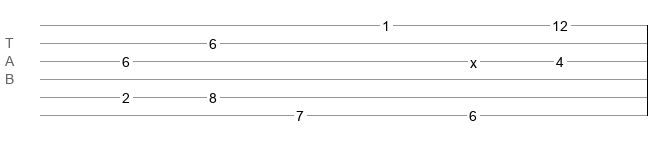1: (382, 18, 390, 28)
12: (552, 18, 568, 28)
2: (122, 90, 130, 100)
4: (556, 54, 564, 64)
6: (122, 54, 130, 64), (209, 36, 217, 46), (469, 108, 477, 118)
7: (296, 108, 304, 118)
8: (209, 90, 217, 100)
x: (470, 55, 477, 63)
